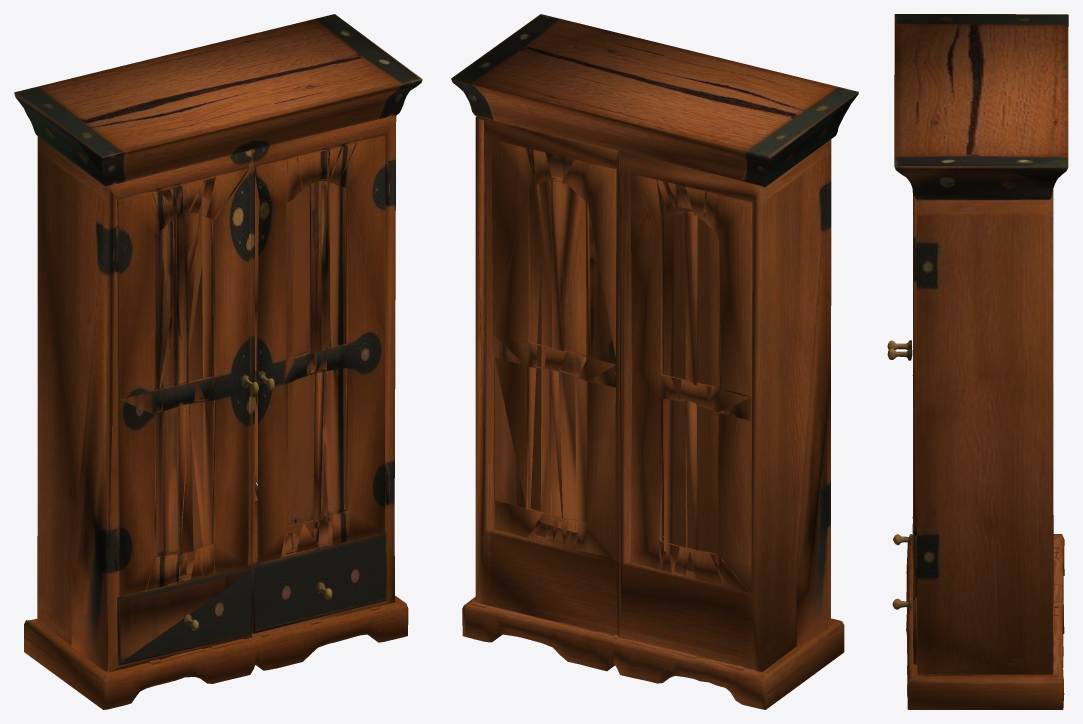
The model's file is wardrobe.glb.
3 views of the same model, side by side, from view 1: azimuth 30°, elevation 25°; view 2: azimuth 150°, elevation 25°; view 3: azimuth 270°, elevation 25° (orthographic). The views are drawn at different scales.
Bounding box in the file's own units: 1.2 × 2 × 0.6.
1 material, 1 textured.
